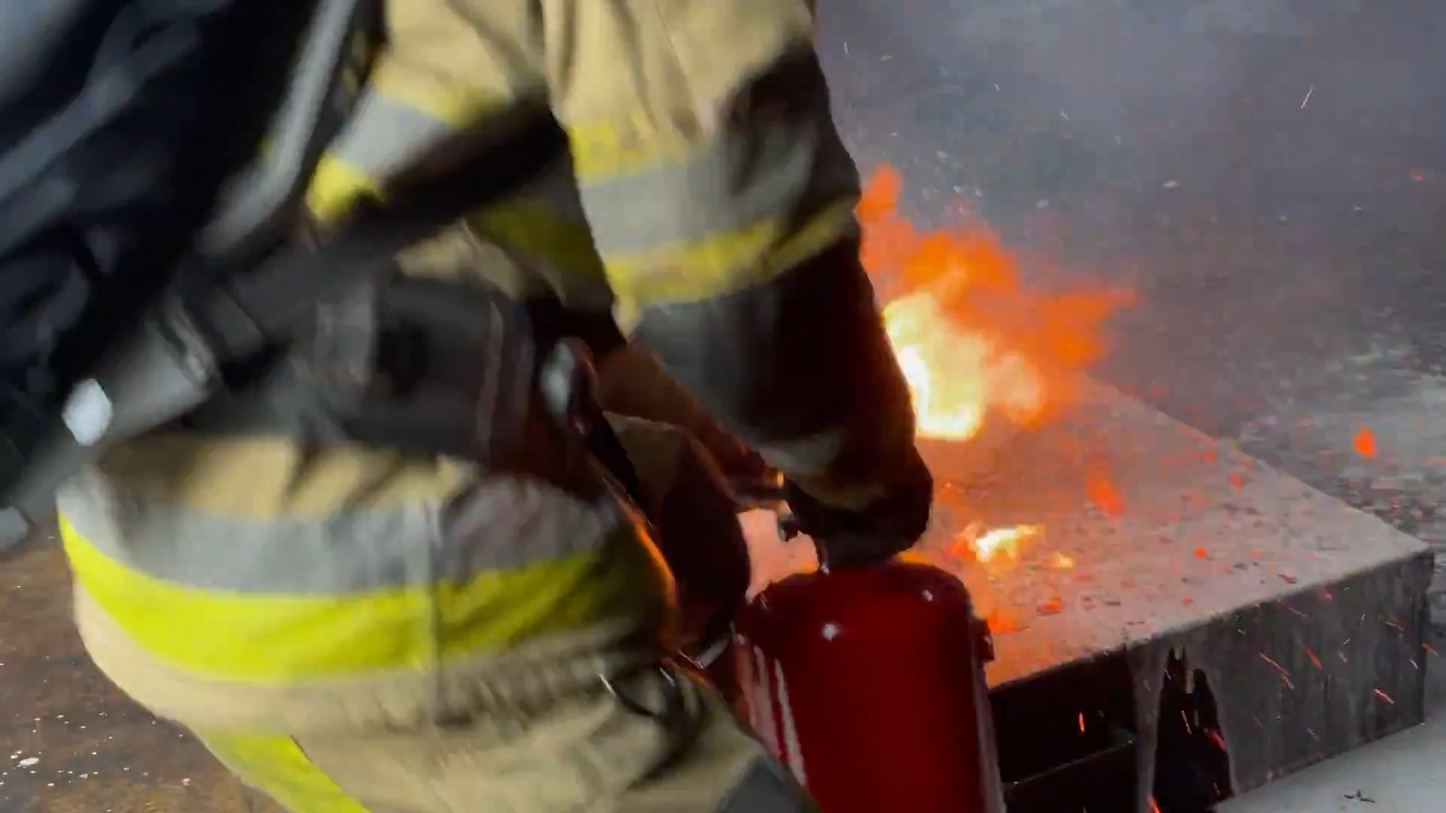fire: (855, 162, 1152, 447), (967, 519, 1042, 571)
smoke: (822, 1, 1444, 346)
